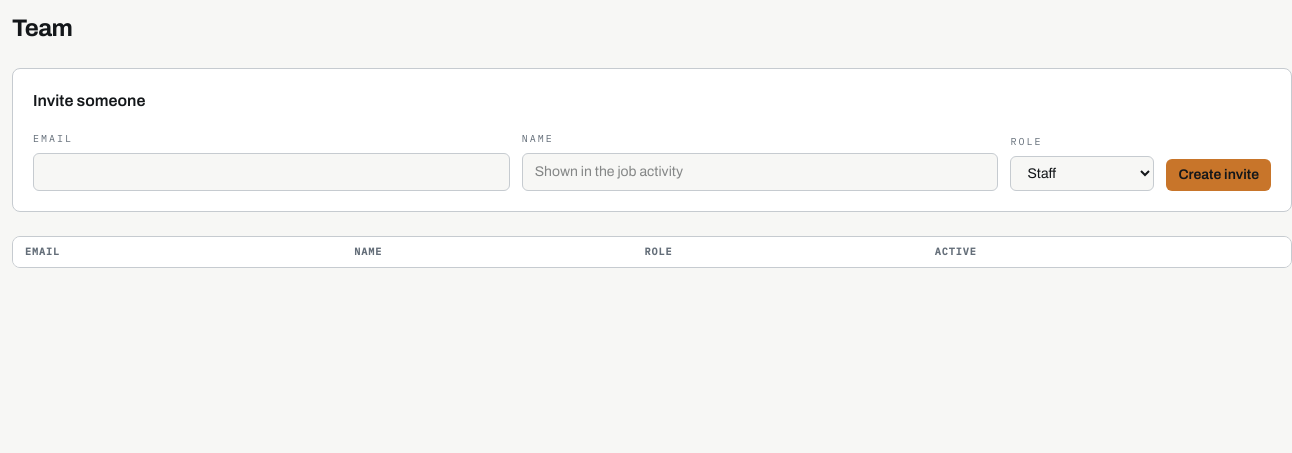
Test: <TeamPage /> invite form › requires a name and sends email, name and role
Type "ann@example.com" into the field labelled "Email". click: (271, 172)
box: [33,153,510,191]
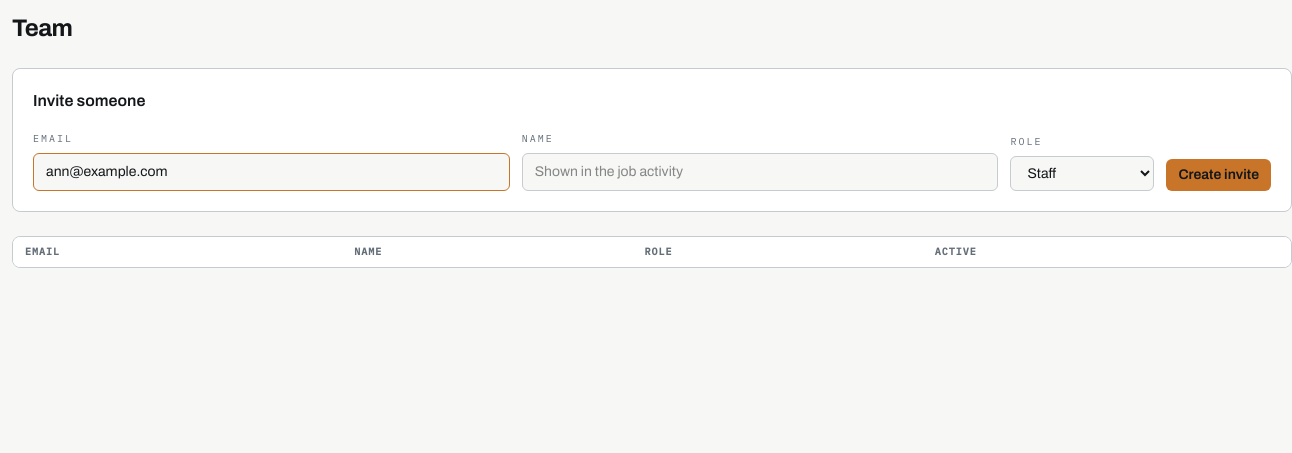
Type " Ann " into the field labelled "Name". click: (760, 172)
box: [522,153,998,191]
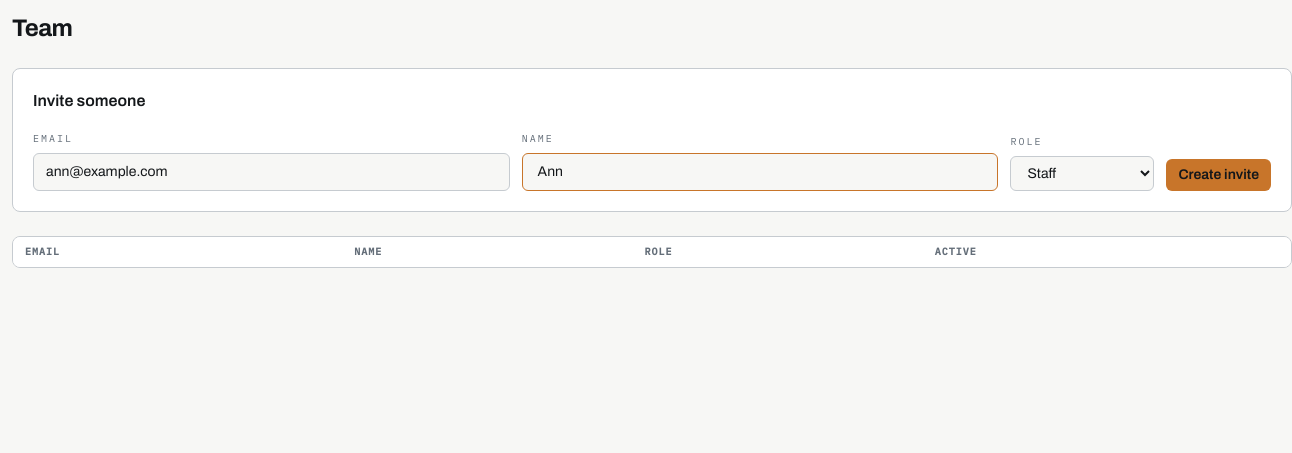
Select "Owner" in the dropdown labelled "Role". click: (1082, 174)
box: [1010,156,1154,191]
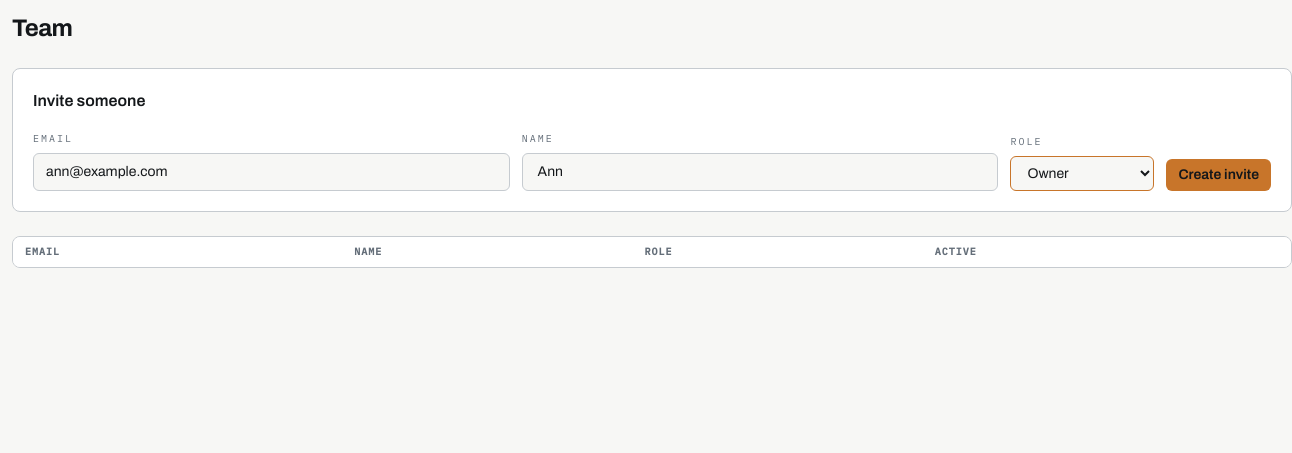
Click the button "Create invite". click: (1219, 175)
box: [1166,159,1271,191]
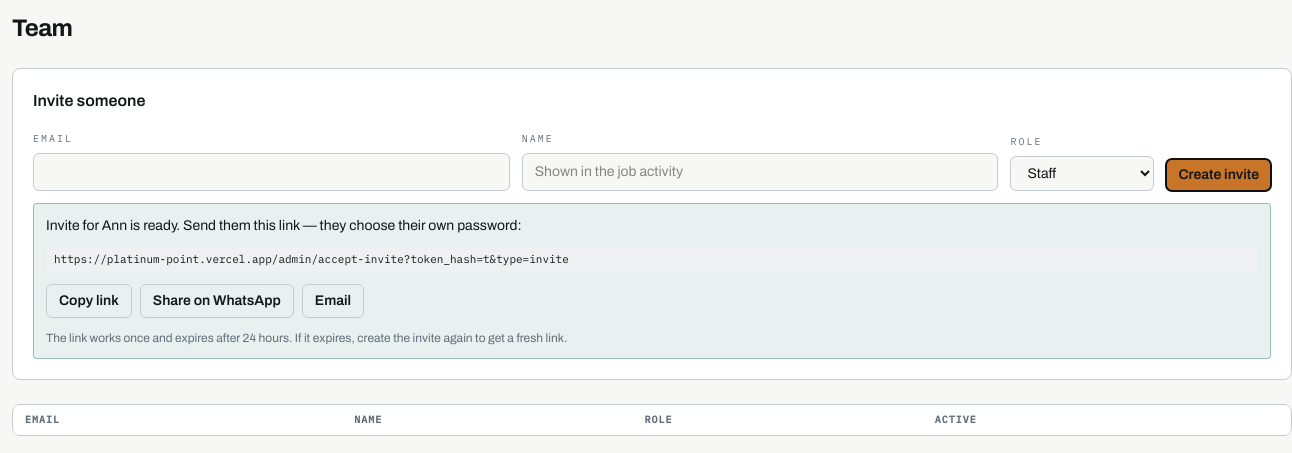
Check: the link "Share on WhatsApp" is shown, box [140,284,294,318]
